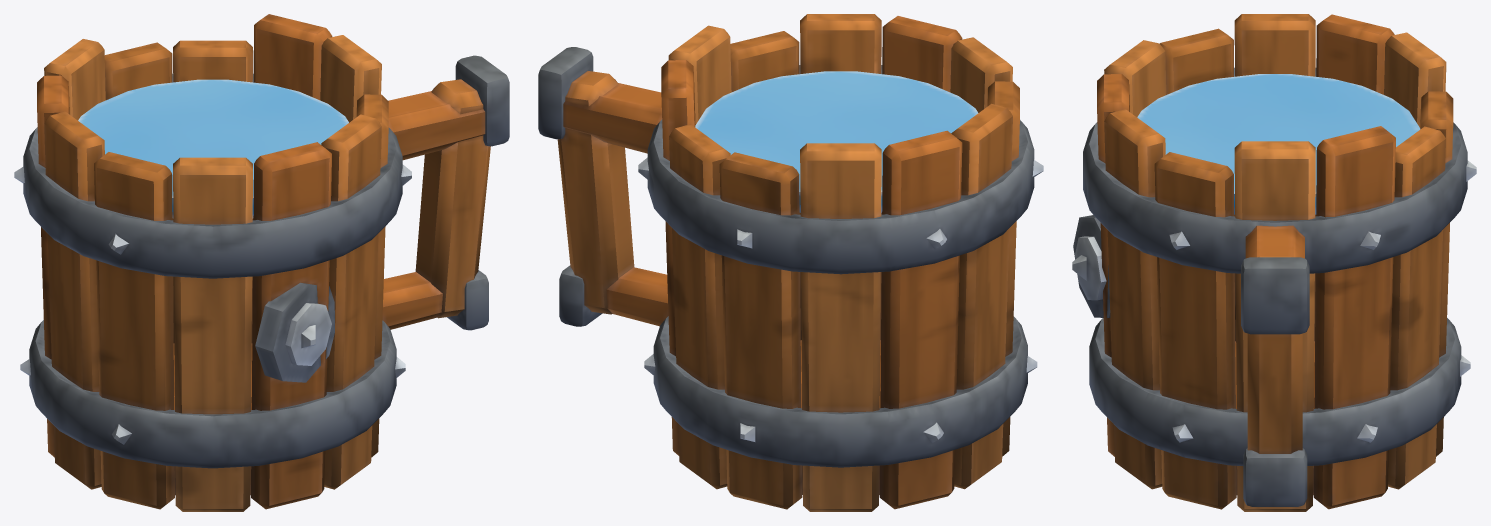
File: Cup.glb
3 renders of one model, left to right at view 1: azimuth 30°, elevation 25°; view 2: azimuth 150°, elevation 25°; view 3: azimuth 270°, elevation 25°, orthographic.
Visible parts, largest first — view 1: Cup, Cup_Water; view 2: Cup, Cup_Water; view 3: Cup, Cup_Water.
Boxes of the visible parts, box(x1,y1,x2,y2) form: Cup: box(14, 14, 509, 511); Cup_Water: box(78, 79, 348, 218); Cup: box(538, 14, 1043, 511); Cup_Water: box(695, 71, 978, 212); Cup: box(1072, 14, 1476, 511); Cup_Water: box(1137, 74, 1420, 214).
Bounding box in the file's own units: 1 × 0.7748 × 0.7721.
Materials: 1 (1 with a texture image).
